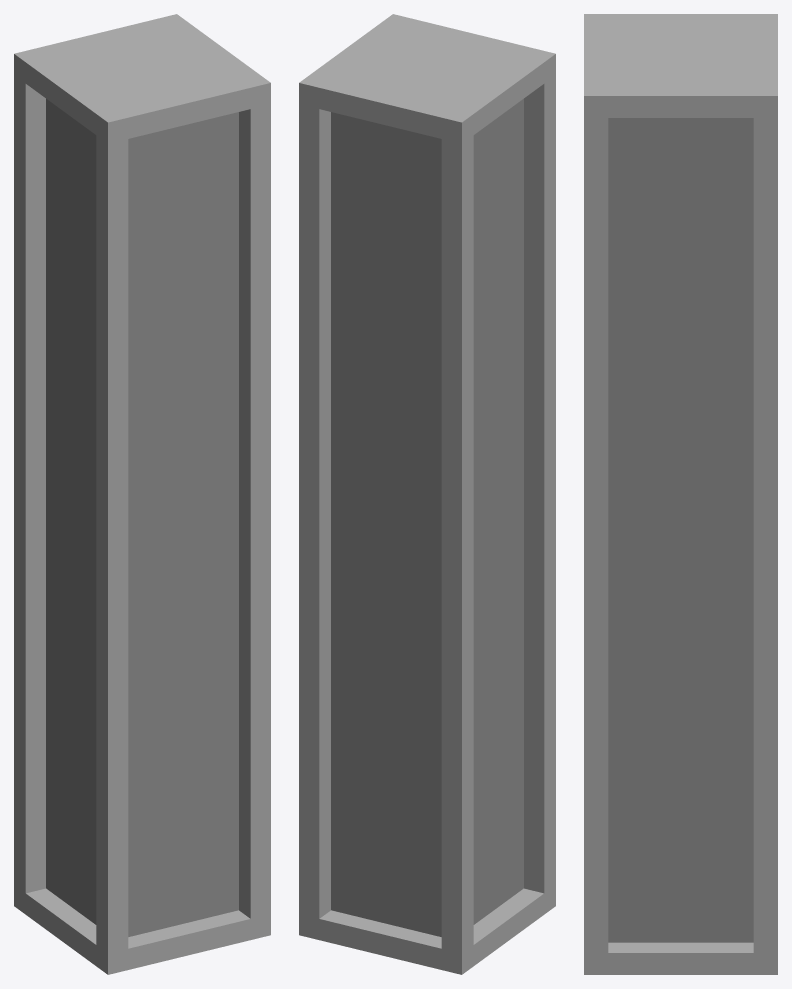
File: Security Collumn.obj
3 views of the same model, side by side, from view 1: azimuth 30°, elevation 25°; view 2: azimuth 150°, elevation 25°; view 3: azimuth 270°, elevation 25° (orthographic). The views are drawn at different scales.
Bounding box in the file's own units: 8 × 40 × 8.
Materials: 1 (1 with a texture image).
